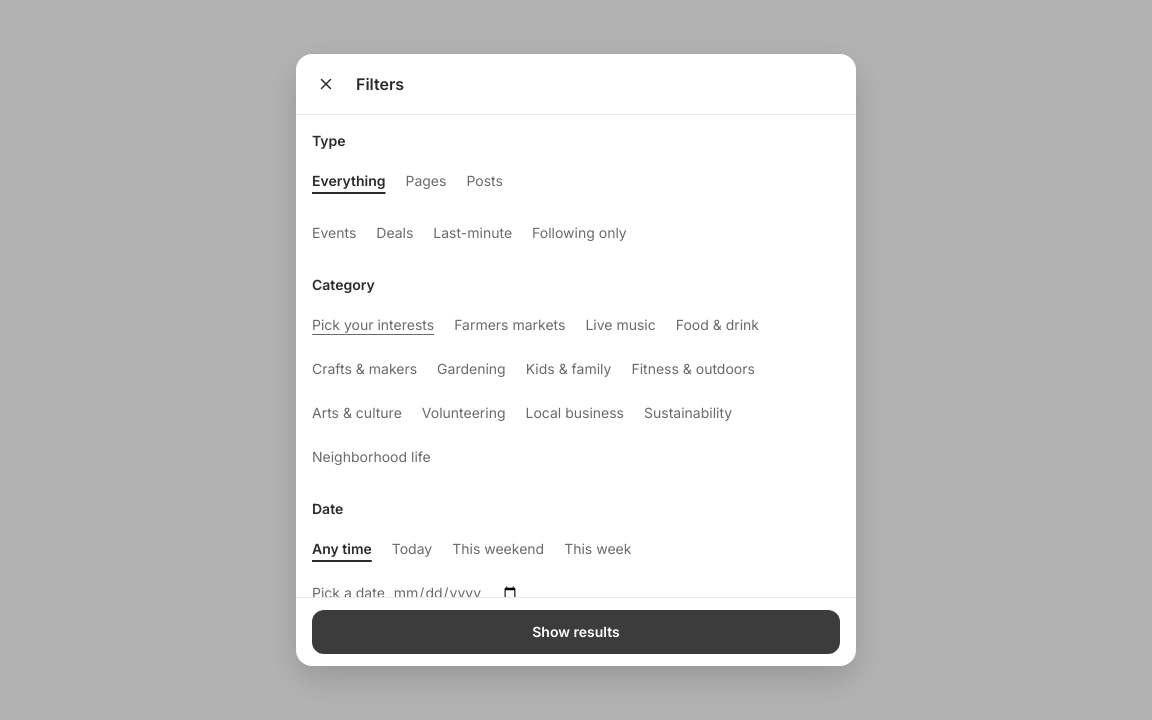
it: T115 — applying and clearing › hides Clear all until something is set
Check: the button "clear all" is not shown
Click the radio button labelled "This week": (598, 548) 564,540 -> 632,557
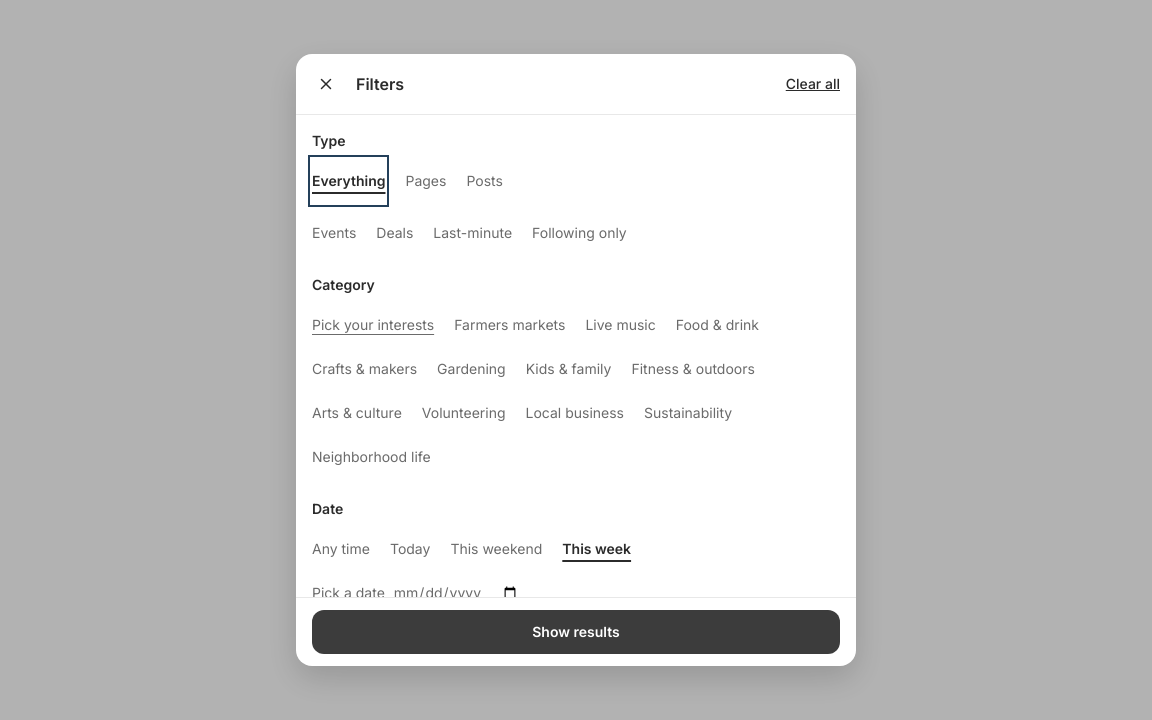
Check: the button "Clear all" is shown, box 778,62 -> 848,106
